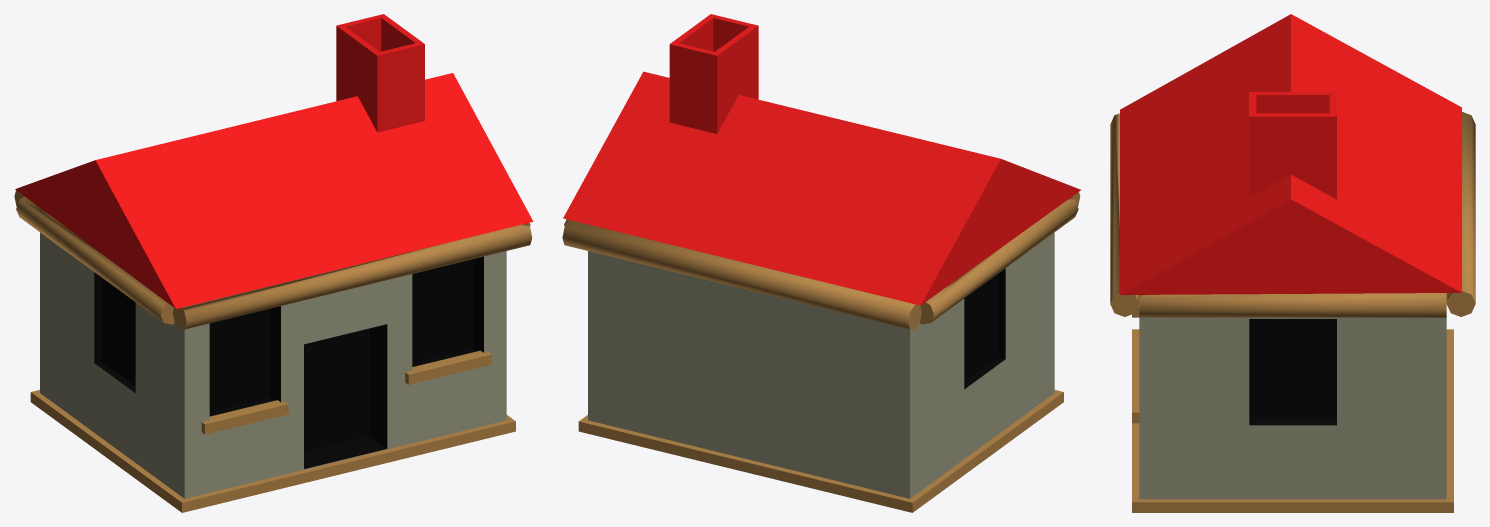
Rendered from House.obj.
The picture shows the model from 3 angles, left to right: view 1: azimuth 30°, elevation 25°; view 2: azimuth 150°, elevation 25°; view 3: azimuth 270°, elevation 25°; orthographic projection. The views are drawn at different scales.
Parts seen in each view (by area): view 1: surface3, surface0, surface1, surface2; view 2: surface0, surface3, surface2, surface1; view 3: surface3, surface0, surface2, surface1.
Boxes of the visible parts, <box> form: surface3: <box>15,14,533,308</box>; surface0: <box>40,232,506,498</box>; surface1: <box>94,256,483,468</box>; surface2: <box>14,190,532,512</box>; surface0: <box>588,232,1054,498</box>; surface3: <box>563,14,1080,305</box>; surface2: <box>562,192,1080,512</box>; surface1: <box>964,268,1005,389</box>; surface3: <box>1120,14,1461,294</box>; surface0: <box>1139,317,1446,499</box>; surface2: <box>1110,112,1475,512</box>; surface1: <box>1249,319,1336,425</box>.
Bounding box in the file's own units: 6.21 × 5.7 × 5.
